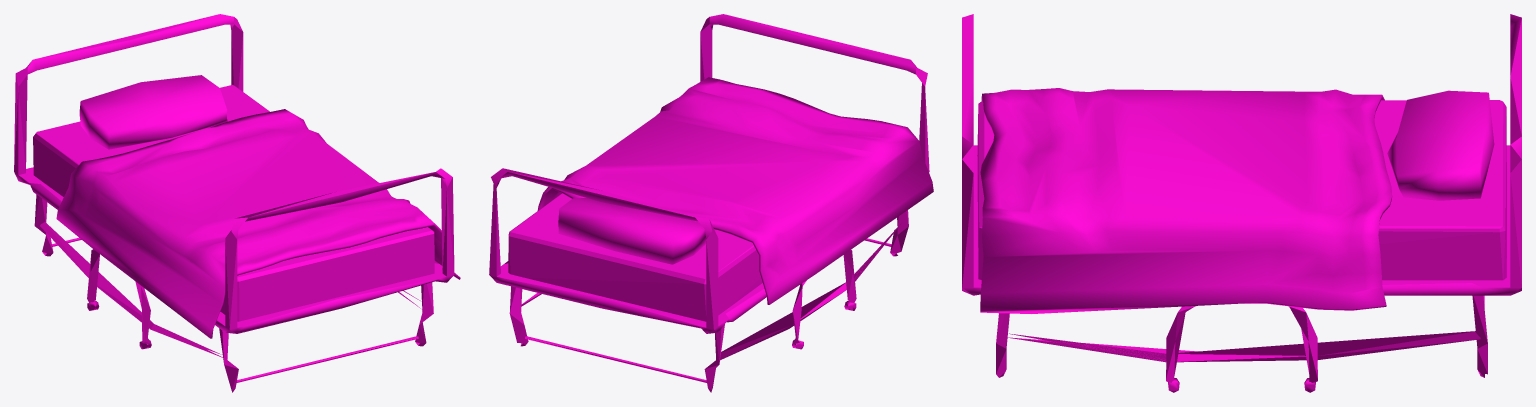
Rendered from SM_MetalFoldingBed_LOD_01.fbx.
3 views of the same model, side by side, from view 1: azimuth 30°, elevation 25°; view 2: azimuth 150°, elevation 25°; view 3: azimuth 270°, elevation 25° (orthographic). The views are drawn at different scales.
Visible parts, largest first — view 1: duvet, bed frame, matress, pillow, more frame; view 2: duvet, matress, bed frame, pillow, more frame; view 3: duvet, matress, bed frame, pillow, more frame.
Part boxes in pixels (x1=…): duvet: x1=56, y1=109, x2=460, y2=338; bed frame: x1=14, y1=14, x2=454, y2=392; matress: x1=33, y1=85, x2=434, y2=321; pillow: x1=79, y1=75, x2=227, y2=149; more frame: x1=40, y1=222, x2=421, y2=382; duvet: x1=537, y1=77, x2=933, y2=304; matress: x1=508, y1=193, x2=762, y2=321; bed frame: x1=489, y1=14, x2=929, y2=392; pillow: x1=558, y1=198, x2=706, y2=264; more frame: x1=521, y1=223, x2=901, y2=382; duvet: x1=980, y1=88, x2=1392, y2=313; matress: x1=977, y1=100, x2=1506, y2=280; bed frame: x1=962, y1=14, x2=1521, y2=382; pillow: x1=1387, y1=90, x2=1494, y2=200; more frame: x1=1007, y1=295, x2=1484, y2=392.
Size of the model in its own units: 138 by 94.92 by 200.
